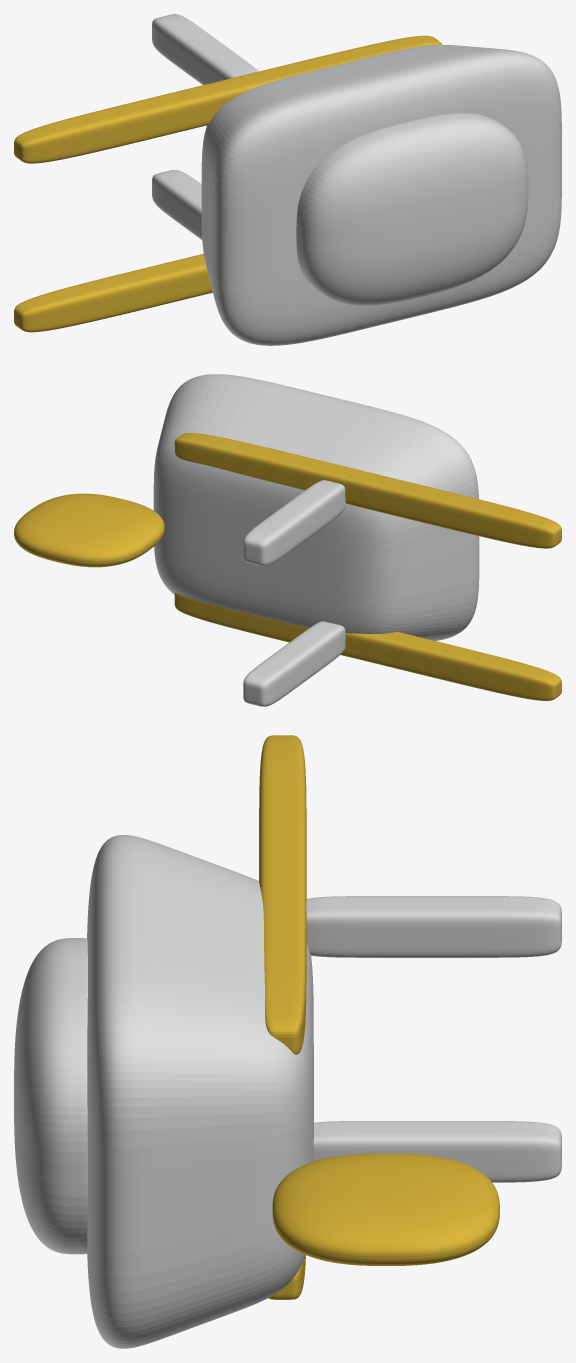
Rendered from garden_wheelbarrow_sq.glb.
3 views of the same model, one above another, from view 1: azimuth 30°, elevation 25°; view 2: azimuth 150°, elevation 25°; view 3: azimuth 270°, elevation 25° (orthographic). The views are drawn at different scales.
Visible parts, largest first — view 1: superquadric_0, superquadric_6, superquadric_3, superquadric_2, superquadric_5, superquadric_4; view 2: superquadric_0, superquadric_3, superquadric_2, superquadric_1, superquadric_5, superquadric_4; view 3: superquadric_0, superquadric_1, superquadric_6, superquadric_5, superquadric_3, superquadric_4.
Part boxes in pixels (x1=…): superquadric_0: x1=201, y1=45, x2=561, y2=345; superquadric_6: x1=296, y1=113, x2=528, y2=305; superquadric_3: x1=14, y1=35, x2=442, y2=163; superquadric_2: x1=14, y1=254, x2=212, y2=332; superquadric_5: x1=152, y1=14, x2=258, y2=84; superquadric_4: x1=152, y1=170, x2=202, y2=239; superquadric_0: x1=153, y1=374, x2=479, y2=640; superquadric_3: x1=174, y1=433, x2=561, y2=548; superquadric_2: x1=174, y1=593, x2=561, y2=700; superquadric_1: x1=14, y1=493, x2=164, y2=567; superquadric_5: x1=243, y1=480, x2=345, y2=565; superquadric_4: x1=243, y1=621, x2=345, y2=706; superquadric_0: x1=87, y1=835, x2=313, y2=1348; superquadric_1: x1=272, y1=1153, x2=499, y2=1265; superquadric_6: x1=14, y1=938, x2=87, y2=1254; superquadric_5: x1=306, y1=896, x2=561, y2=957; superquadric_3: x1=259, y1=735, x2=306, y2=1054; superquadric_4: x1=313, y1=1121, x2=561, y2=1182.
Bounding box in the file's own units: 1 × 0.4209 × 0.5956.
